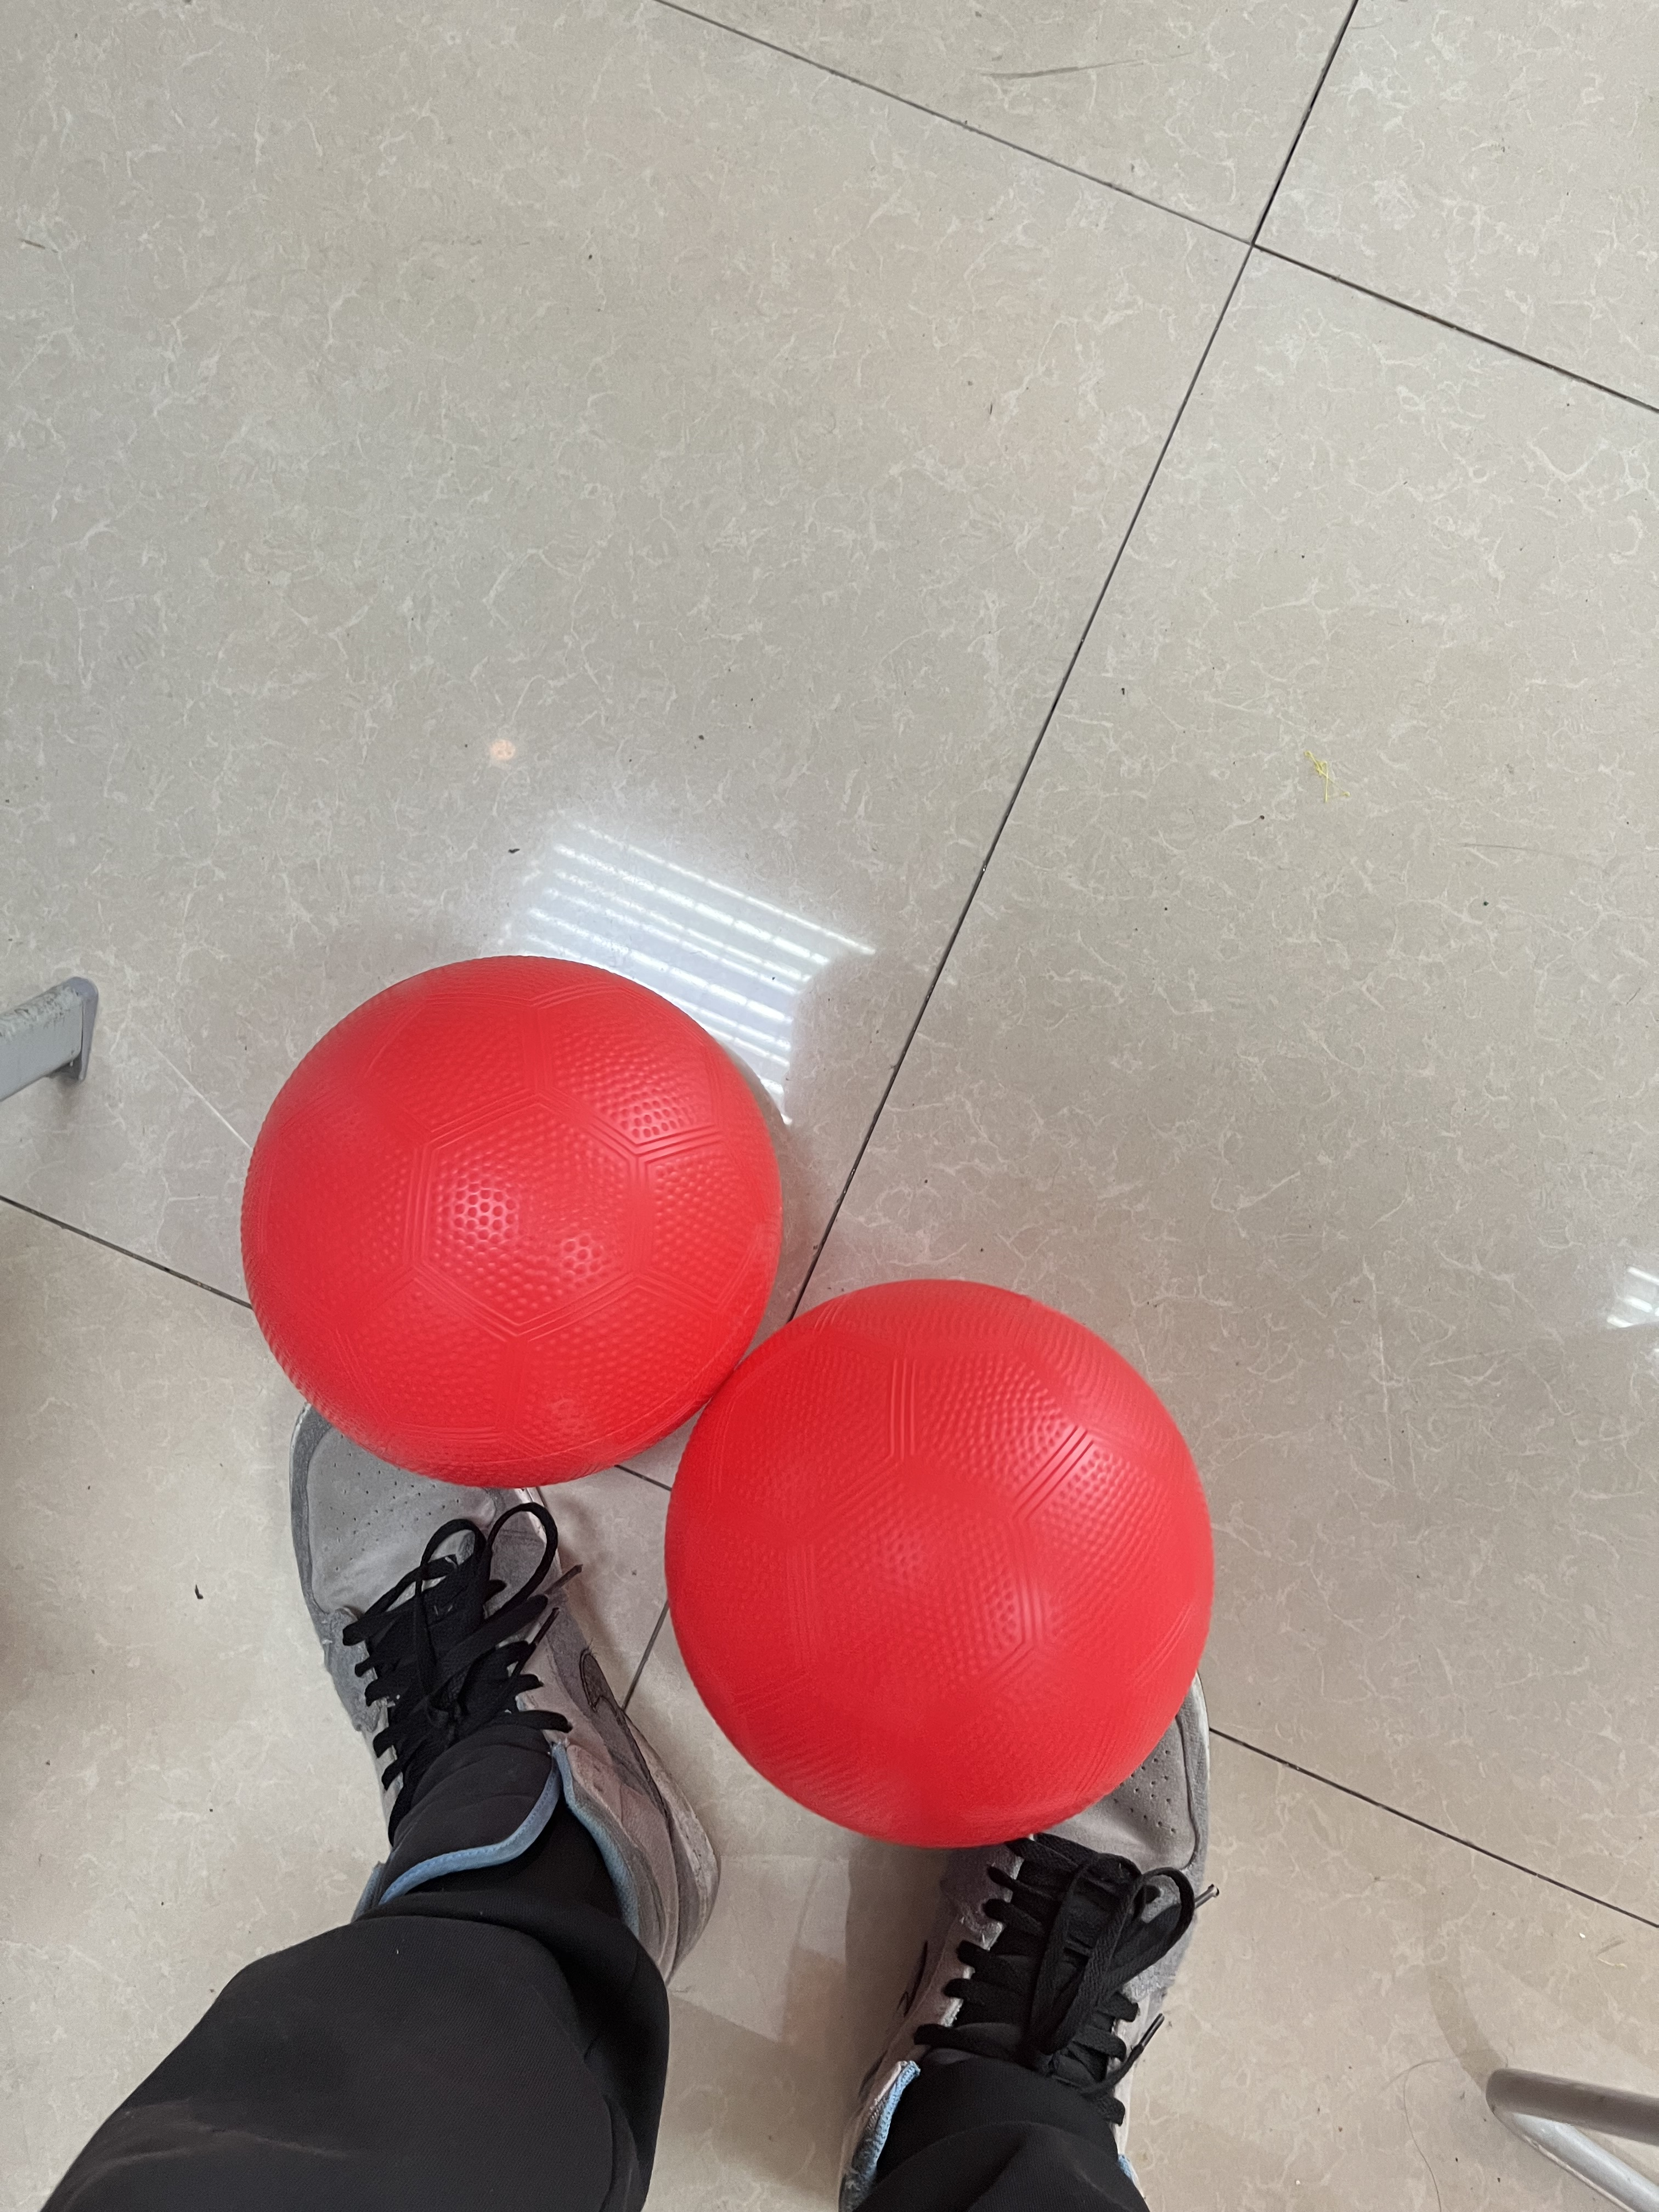red: (662, 1266, 1229, 1869), (213, 948, 803, 1494)
